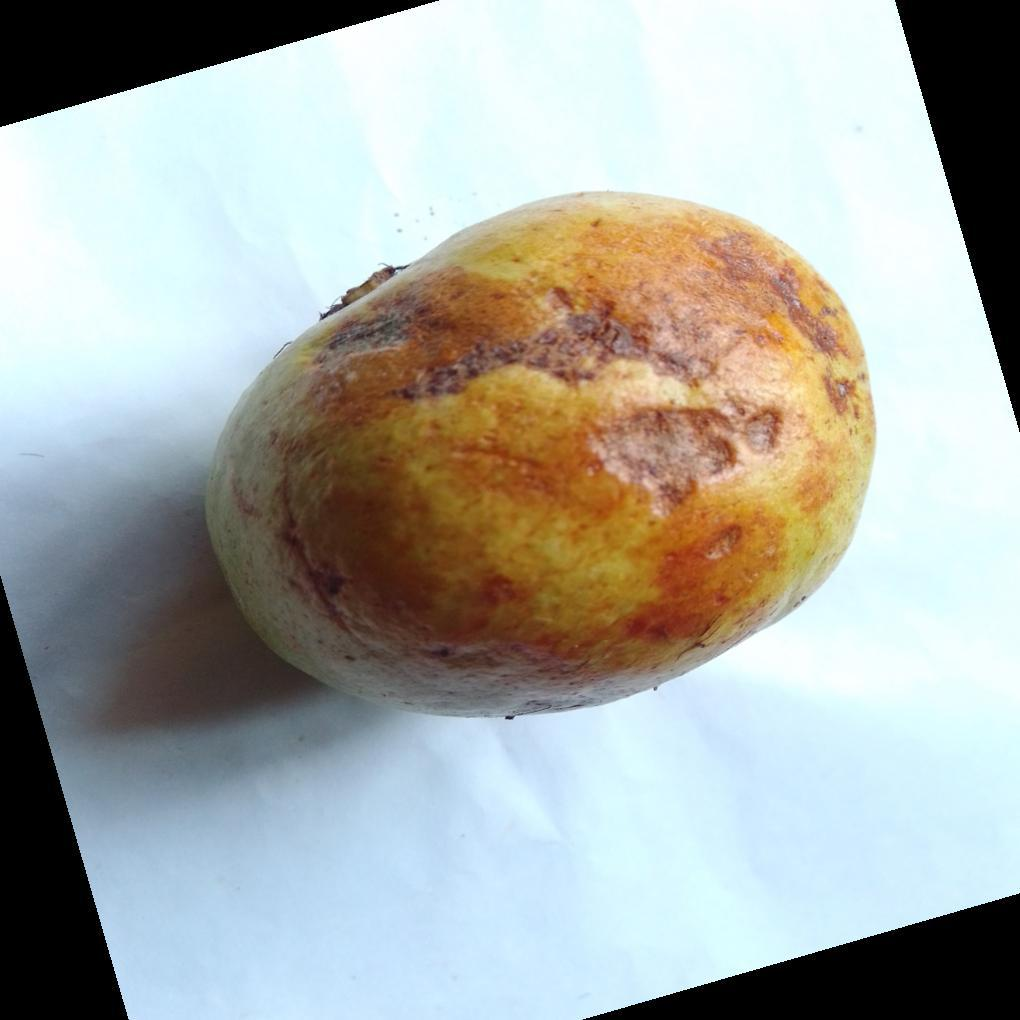FreshOrange: (201, 192, 877, 726)
